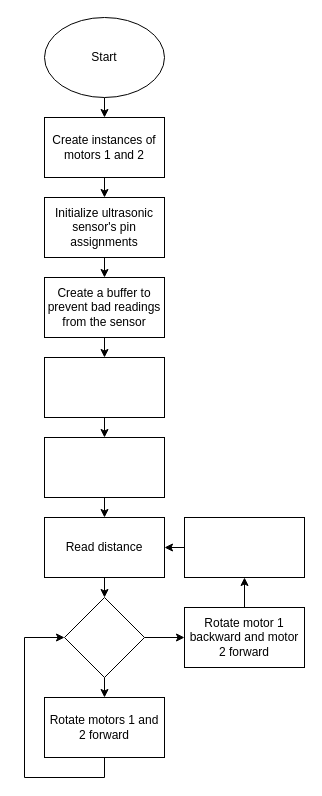
This 322x796 diagram has some shape labels left out. Each missing label, with the centre of its shape:
"Delay 1 second" goes at pixel 244 547.
"Is distance < 5 cm?" goes at pixel 104 637.
"Set collision distance to 5 cm" goes at pixel 104 387.
"Set distance reading as the average of buffer array" goes at pixel 104 467.
